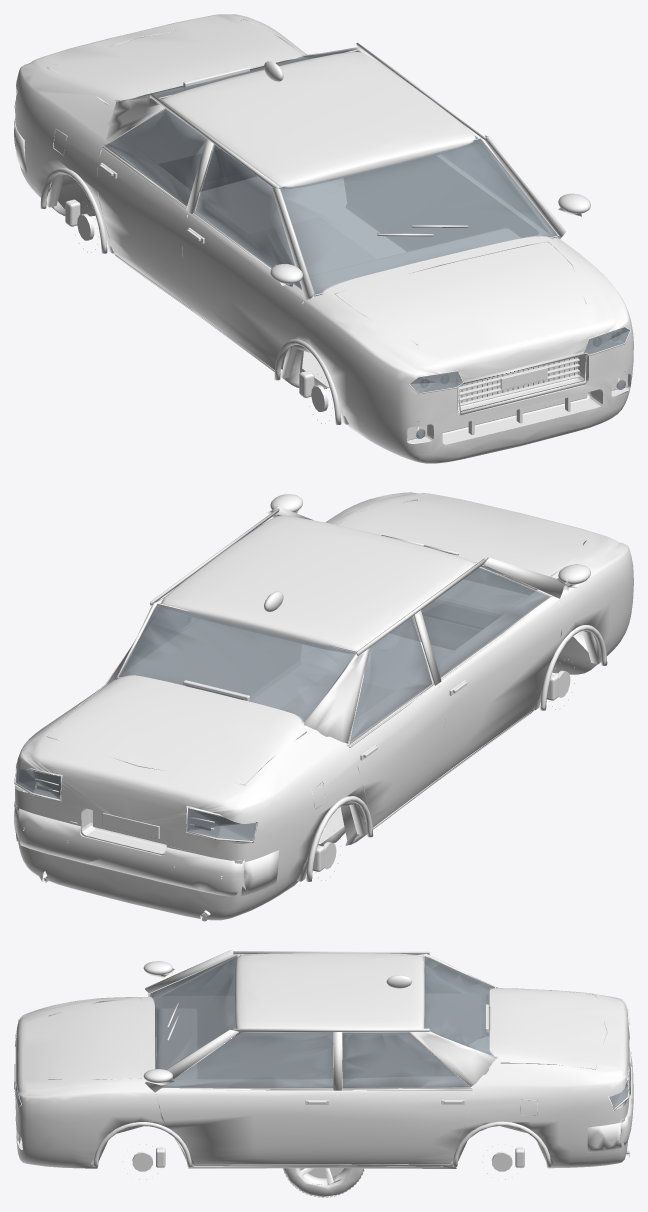
Rendered from sedan.glb.
3 views of the same model, one above another, from view 1: azimuth 30°, elevation 25°; view 2: azimuth 150°, elevation 25°; view 3: azimuth 270°, elevation 25° (orthographic). The views are drawn at different scales.
Visible parts, largest first — view 1: body; view 2: body; view 3: body, wheel.
Part boxes in pixels (x1,y1,x2,y2): body: [14, 14, 633, 463]; body: [14, 492, 633, 921]; body: [14, 950, 633, 1179]; wheel: [283, 1168, 364, 1197].
Bounding box in the file's own units: 2.07 × 1.78 × 4.59.
